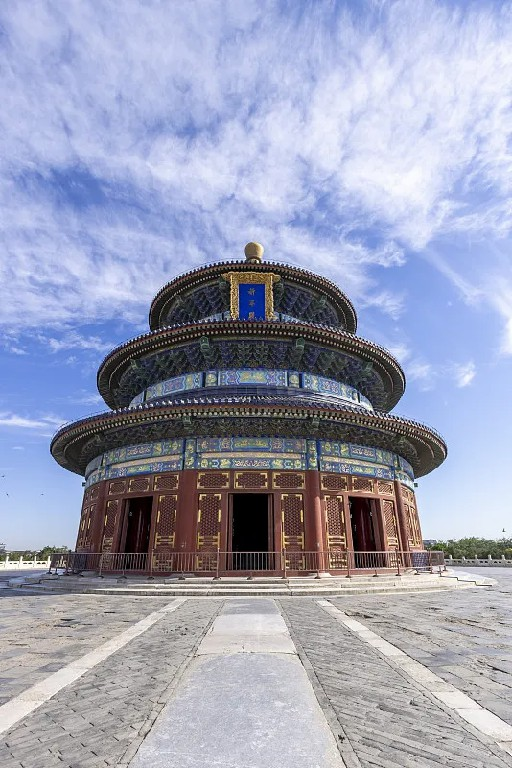Heaven: (50, 242, 449, 583)
